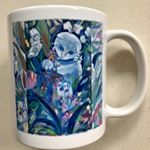cups: (5, 4, 148, 150)
